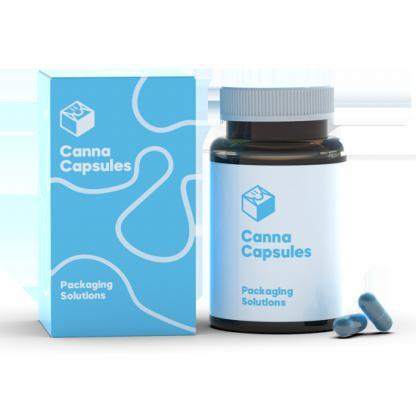jar: (210, 86, 346, 333)
